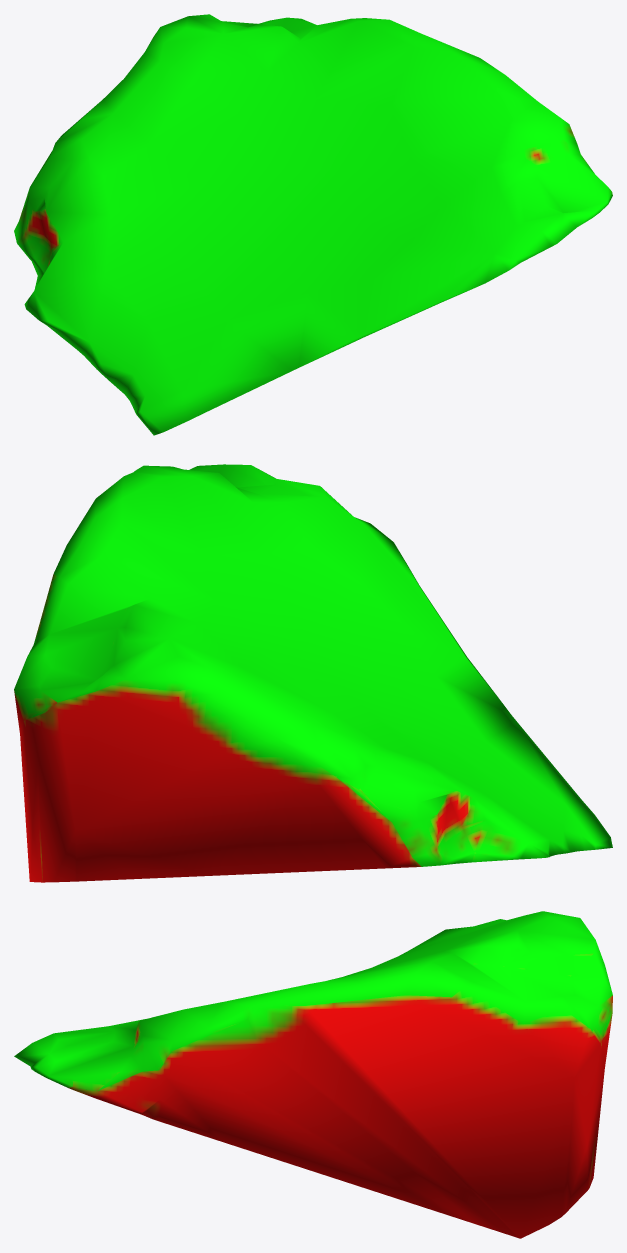
The model's file is SM_Debris_C.fbx.
The picture shows the model from 3 angles, top to bottom: view 1: azimuth 30°, elevation 25°; view 2: azimuth 150°, elevation 25°; view 3: azimuth 270°, elevation 25°; orthographic projection. The views are drawn at different scales.
Visible parts, largest first — view 1: SM_Debris_C; view 2: SM_Debris_C; view 3: SM_Debris_C.
Part boxes in pixels (bbox=[...]): SM_Debris_C: bbox=[14, 14, 612, 435]; SM_Debris_C: bbox=[14, 464, 612, 882]; SM_Debris_C: bbox=[14, 911, 612, 1238].
Bounding box in the file's own units: 190 × 103 × 201.
